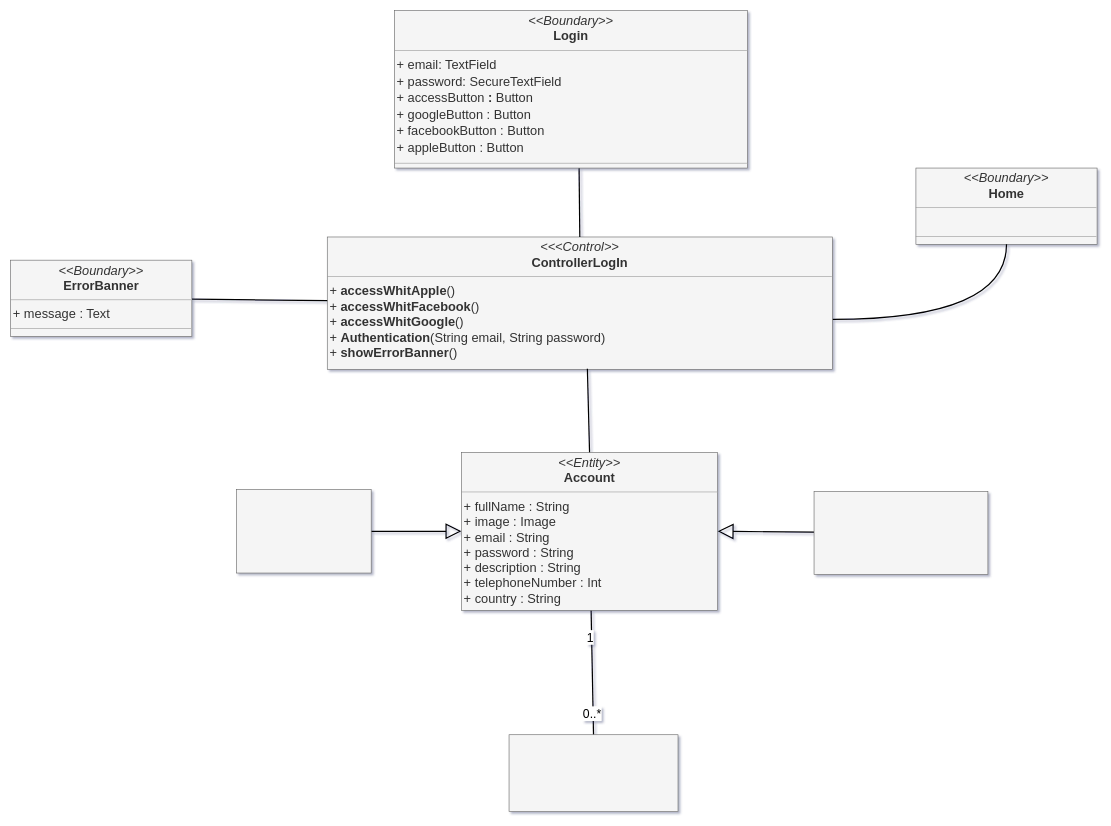
This 1111x826 diagram has some shape labels left out. Here are the shapes that lost their labels. From the top down, the centre of each, then its label:
point (303, 531): <<Entity>> Seller
point (900, 532): <<Entity>> Buyer
point (593, 773): <<Entity>> SocialLink + link : String
